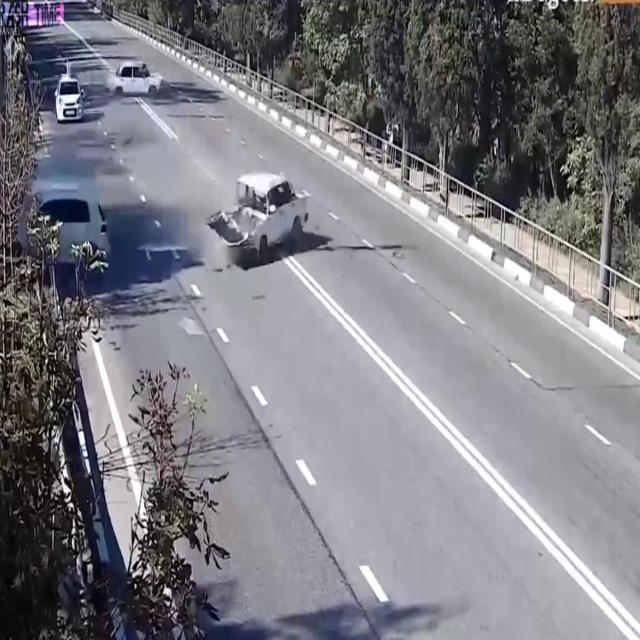accident: (192, 153, 316, 282), (1, 159, 123, 289)
